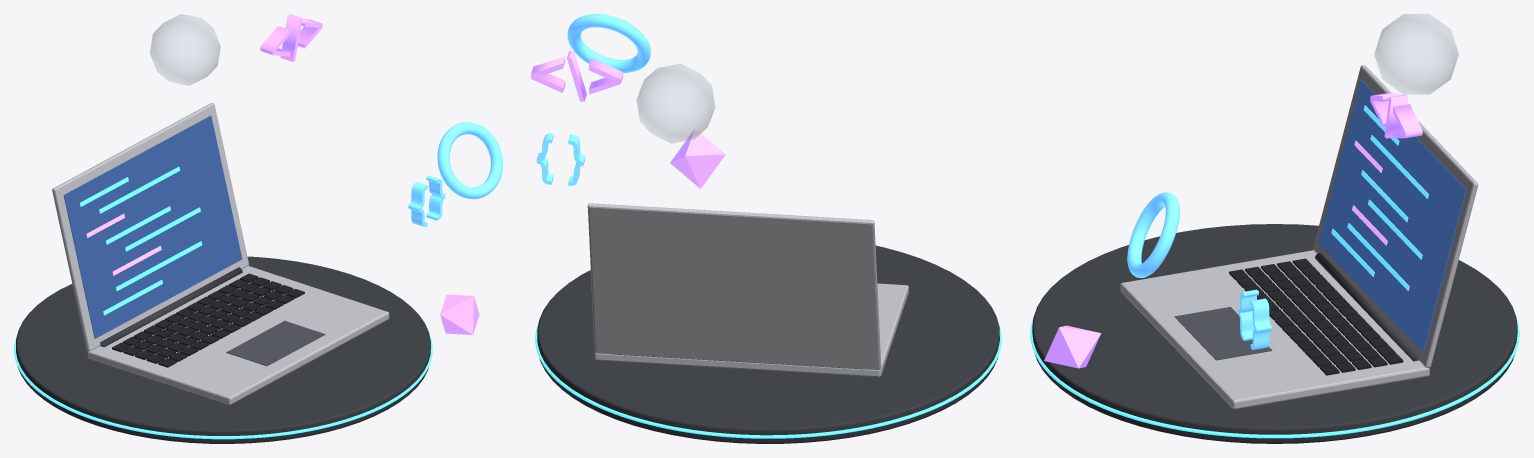
The model's file is portfolio_hero_v1_clean.glb.
The picture shows the model from 3 angles, left to right: view 1: azimuth 30°, elevation 25°; view 2: azimuth 150°, elevation 25°; view 3: azimuth 270°, elevation 25°; orthographic projection. The views are drawn at different scales.
Parts seen in each view (by area): view 1: PH2_Platform_Top, PH2_Laptop_Screen, PH2_Laptop_Base, PH2_Laptop_Keys, PH2_Laptop_Lid, PH2_Float_GlassIco, PH2_Float_Ring, PH2_Laptop_CodeBars_Blue, PH2_Laptop_Trackpad, PH2_Platform_EdgeGlow, PH2_Float_CodeTag, PH2_Float_Octa (+3 smaller); view 2: PH2_Laptop_Lid, PH2_Platform_Top, PH2_Float_GlassIco, PH2_Laptop_Base, PH2_Float_Ring, PH2_Platform_EdgeGlow, PH2_Float_CodeTag, PH2_Float_Octa, PH2_Float_Braces; view 3: PH2_Platform_Top, PH2_Laptop_Screen, PH2_Laptop_Base, PH2_Laptop_Keys, PH2_Float_GlassIco, PH2_Laptop_Lid, PH2_Laptop_Trackpad, PH2_Float_Ring, PH2_Platform_EdgeGlow, PH2_Laptop_CodeBars_Blue, PH2_Float_CodeTag, PH2_Float_Octa (+2 smaller).
Boxes of the visible parts, box(x1,y1,x2,y2) form: PH2_Platform_Top: box(16, 256, 430, 443); PH2_Laptop_Screen: box(63, 115, 242, 338); PH2_Laptop_Base: box(87, 266, 389, 404); PH2_Laptop_Keys: box(112, 273, 304, 367); PH2_Laptop_Lid: box(52, 103, 248, 351); PH2_Float_GlassIco: box(150, 14, 220, 85); PH2_Float_Ring: box(437, 122, 502, 199); PH2_Laptop_CodeBars_Blue: box(79, 166, 202, 315); PH2_Laptop_Trackpad: box(226, 320, 325, 366); PH2_Platform_EdgeGlow: box(14, 335, 432, 439); PH2_Float_CodeTag: box(260, 14, 322, 61); PH2_Float_Octa: box(440, 294, 479, 334); PH2_Laptop_Lid: box(587, 203, 881, 369); PH2_Platform_Top: box(537, 245, 999, 443); PH2_Float_GlassIco: box(636, 64, 715, 143); PH2_Laptop_Base: box(594, 283, 908, 377); PH2_Float_Ring: box(567, 14, 650, 73); PH2_Platform_EdgeGlow: box(535, 323, 1001, 438); PH2_Float_CodeTag: box(531, 50, 622, 101); PH2_Float_Octa: box(670, 128, 725, 188); PH2_Float_Braces: box(536, 133, 585, 185); PH2_Platform_Top: box(1032, 224, 1517, 443); PH2_Laptop_Screen: box(1318, 80, 1466, 352); PH2_Laptop_Base: box(1120, 250, 1429, 409); PH2_Laptop_Keys: box(1229, 258, 1403, 375); PH2_Float_GlassIco: box(1374, 14, 1458, 94); PH2_Laptop_Lid: box(1313, 65, 1478, 367); PH2_Laptop_Trackpad: box(1174, 307, 1272, 360); PH2_Float_Ring: box(1127, 192, 1179, 277); PH2_Platform_EdgeGlow: box(1030, 318, 1519, 438); PH2_Laptop_CodeBars_Blue: box(1331, 105, 1428, 290); PH2_Float_CodeTag: box(1370, 93, 1422, 138); PH2_Float_Octa: box(1044, 325, 1101, 368).
Bounding box in the file's own units: 5.46 × 3.83 × 4.84.
